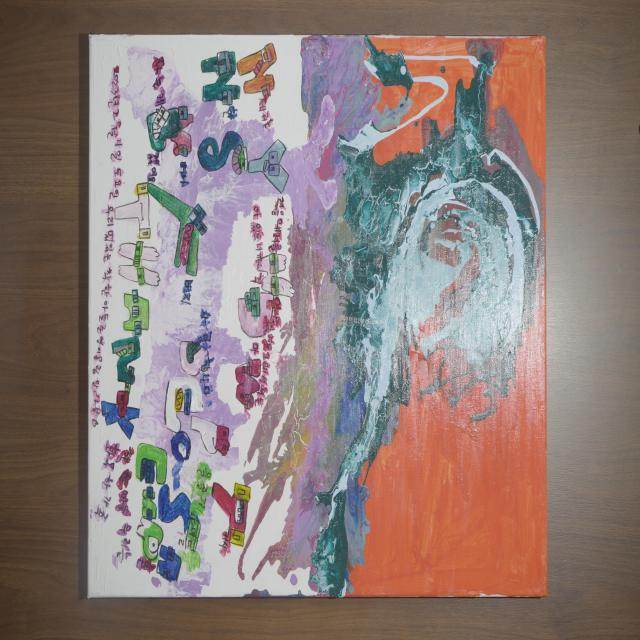painting: (87, 36, 547, 596)
